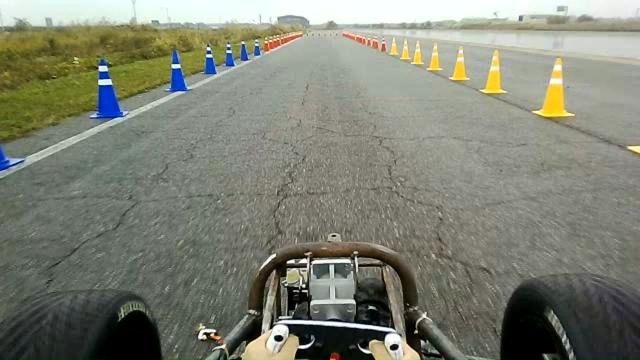blue cone: (89, 57, 128, 119), (164, 48, 191, 92), (0, 144, 25, 171), (201, 42, 217, 74), (223, 40, 236, 66), (239, 40, 249, 61), (253, 38, 261, 56)
yellow cone: (531, 56, 575, 118), (479, 48, 507, 94), (448, 45, 470, 81), (426, 40, 443, 71), (411, 40, 424, 65), (550, 57, 563, 80), (400, 38, 411, 61), (388, 36, 398, 56), (490, 49, 500, 68)
